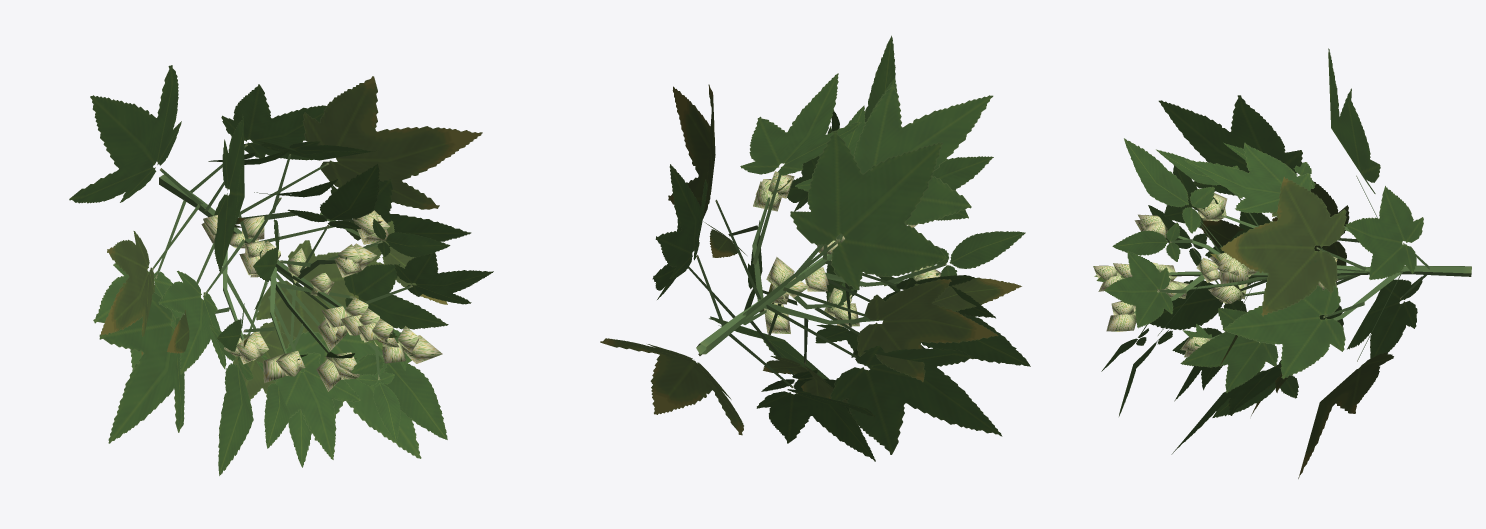
Rendered from p_male_afghan_ripe_c0_cards.obj.
3 renders of one model, left to right at view 1: azimuth 30°, elevation 25°; view 2: azimuth 150°, elevation 25°; view 3: azimuth 270°, elevation 25°, orthographic. The views are drawn at different scales.
Size of the model in its own units: 1.28 by 1.29 by 1.07.
Materials: 1 (1 with a texture image).
